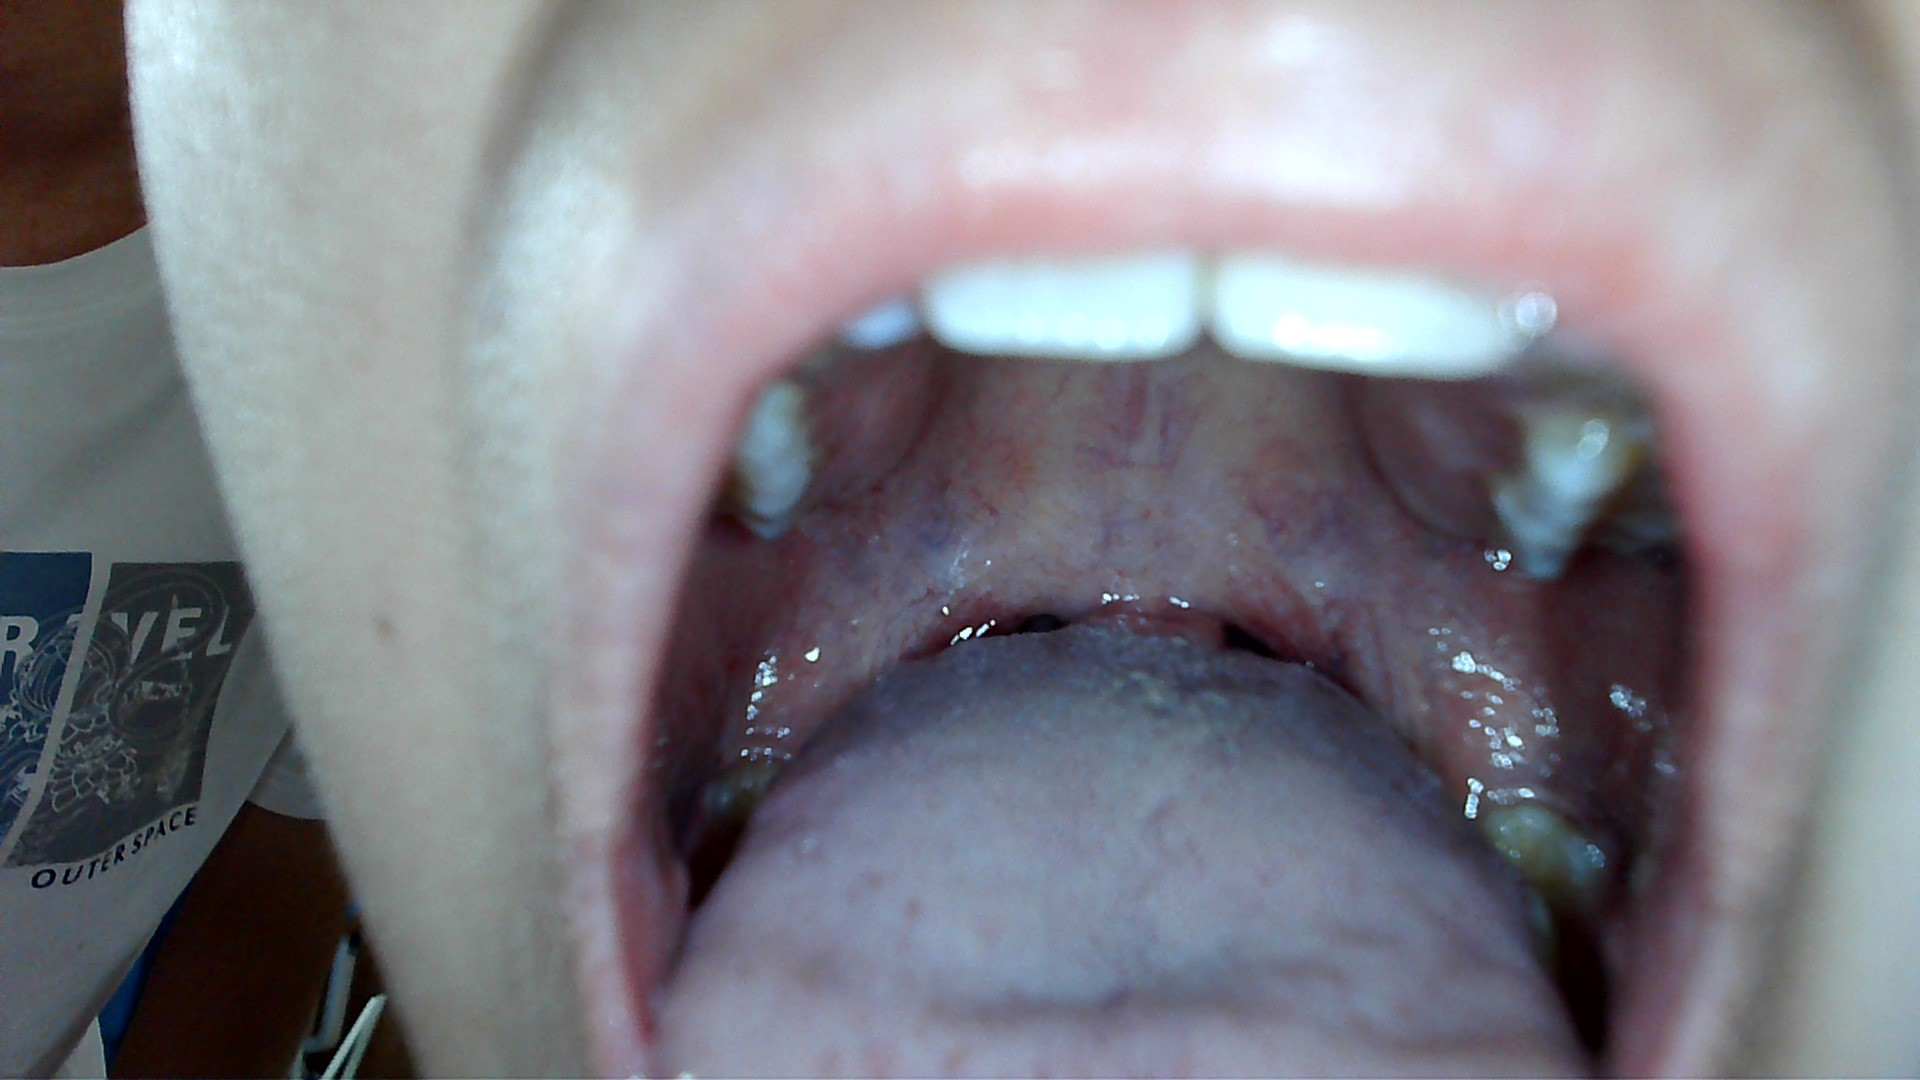throat: (1215, 564, 1378, 692), (890, 564, 1073, 673)
